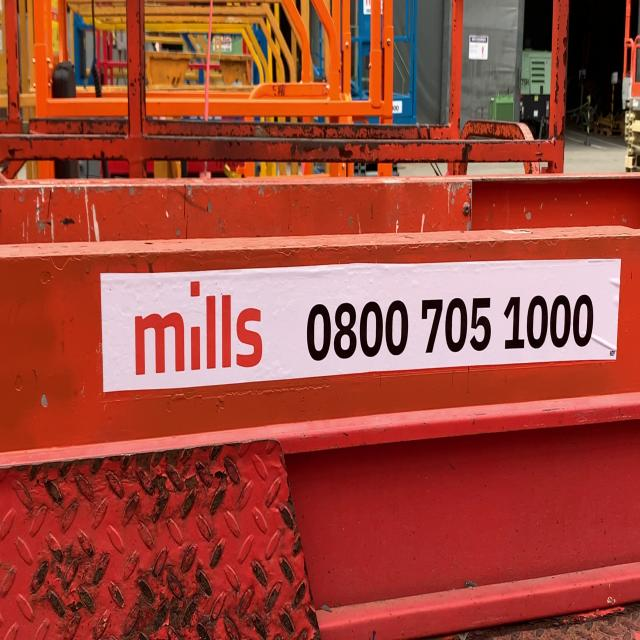Adesivo Longo: (97, 254, 623, 396)
